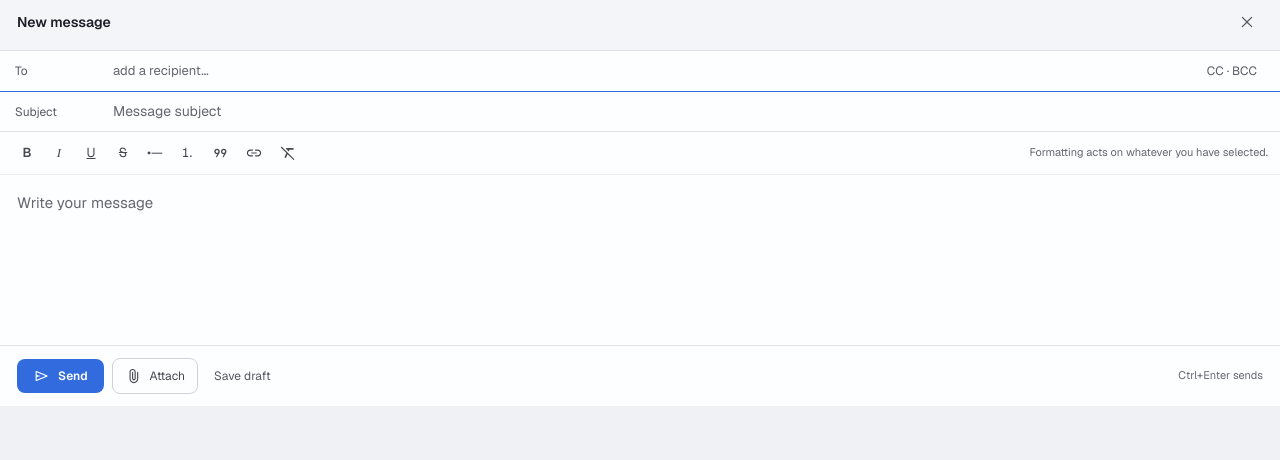
Test: Composer, a message of its own › files the draft in the user’s own drafts when that is asked for, and says it did
The width and height of the screenshot is (1280, 460).
Type "Invoice" into the field labelled "Subject" at (689, 112), box [113,101,1265,122]
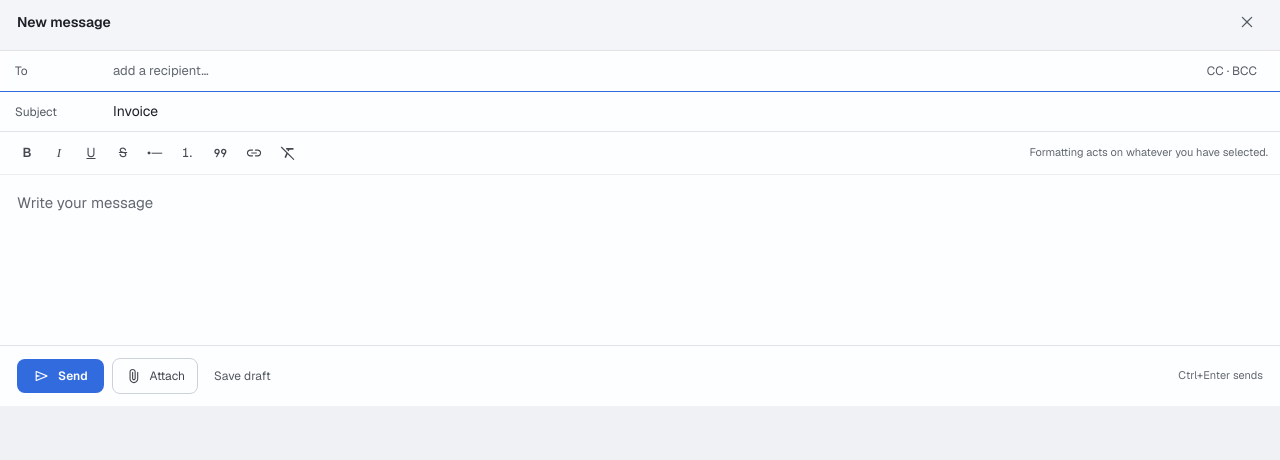
Click the button "Save draft" at (242, 376), box [206,359,279,393]
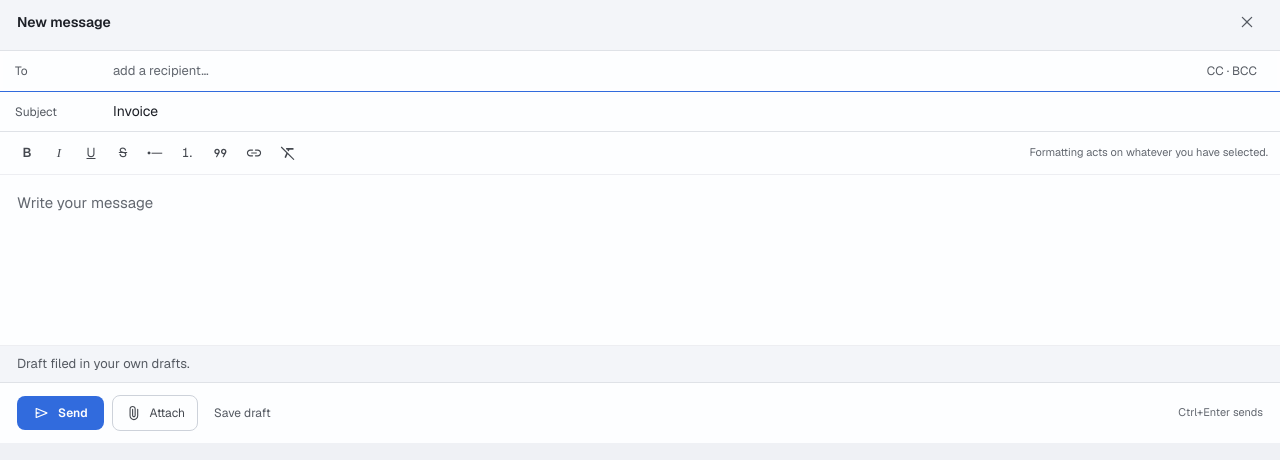
Result: the text "Draft filed in your own drafts." is shown at [0,345,1279,382]
